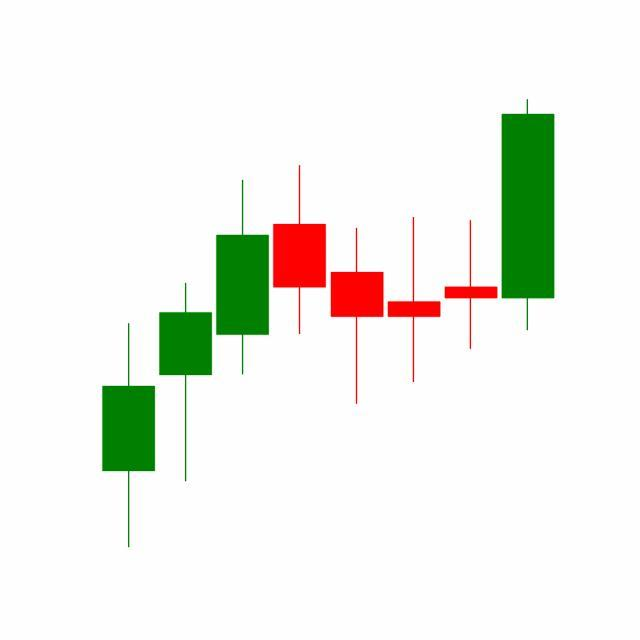Hikkake Pattern: (270, 100, 555, 410)
